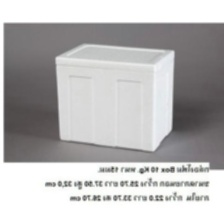foam_box: (50, 37, 179, 156)
